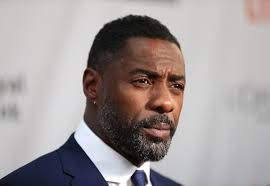no-mask: (76, 15, 186, 163)
